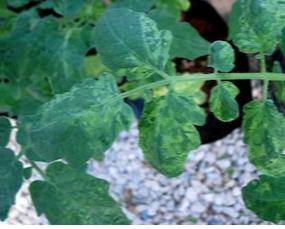Tomato leaf mosaic virus: (12, 76, 130, 170), (89, 3, 171, 85), (133, 90, 205, 179), (221, 0, 285, 67), (240, 101, 285, 177), (239, 165, 285, 222), (205, 82, 238, 129), (202, 41, 232, 76)
